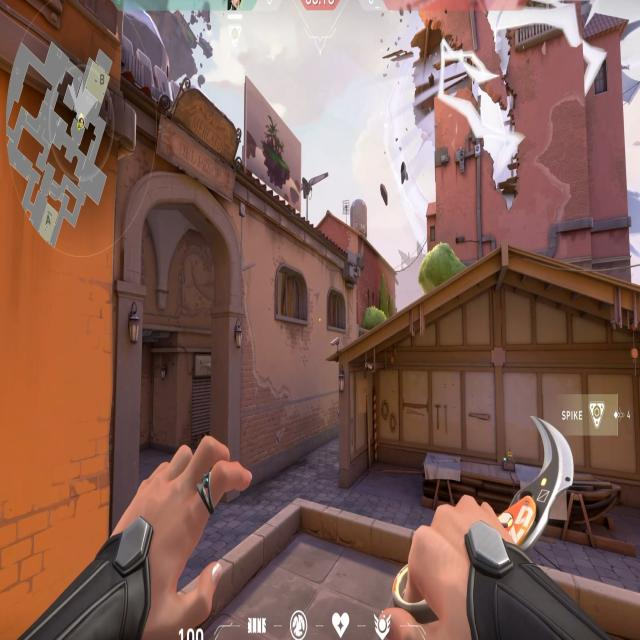B_Garage_Left: (337, 365, 462, 508)
Throwables: (272, 258, 312, 333), (324, 282, 351, 338)
